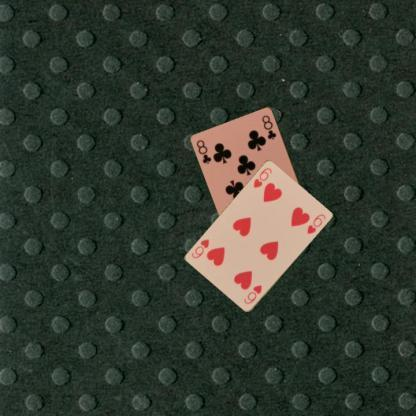6h: (250, 166, 274, 190), (242, 283, 264, 306)
8c: (194, 138, 212, 166)
